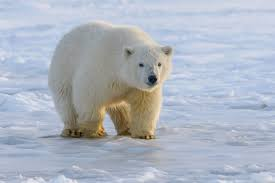PolarBear: (41, 17, 173, 144)
